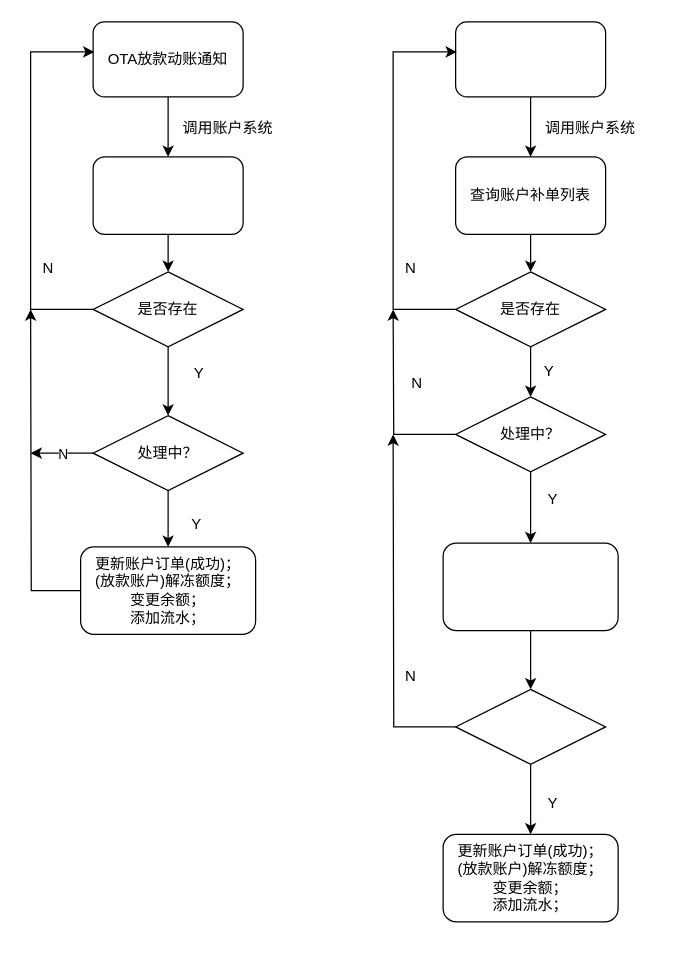
Some shapes in this 678 by 971 pixel diagram are drawn without their labels. The shapes that lost their labels are listed below. From the top down, each one's centre as x and y in pixels, then its label:
the point at 530,59: 定时处理
the point at 167,195: 查询账户订单
the point at 530,586: 查询入账账户的单笔划拨结果
the point at 530,726: 划拨成功？
